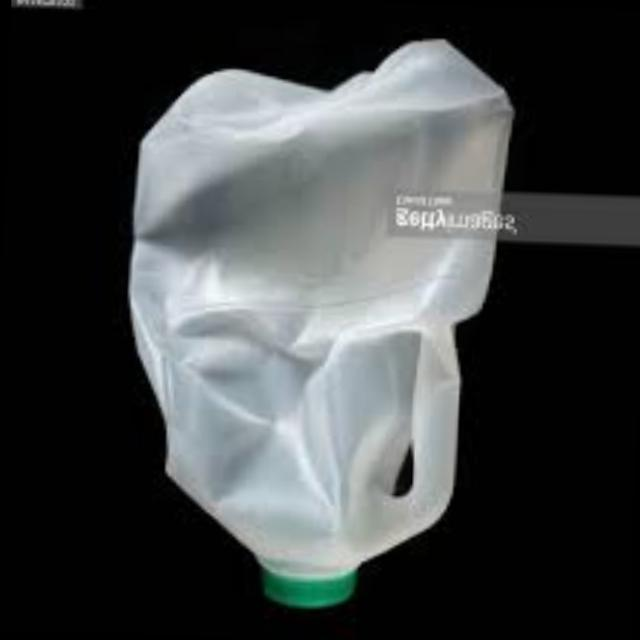plastic: (127, 47, 506, 609)
